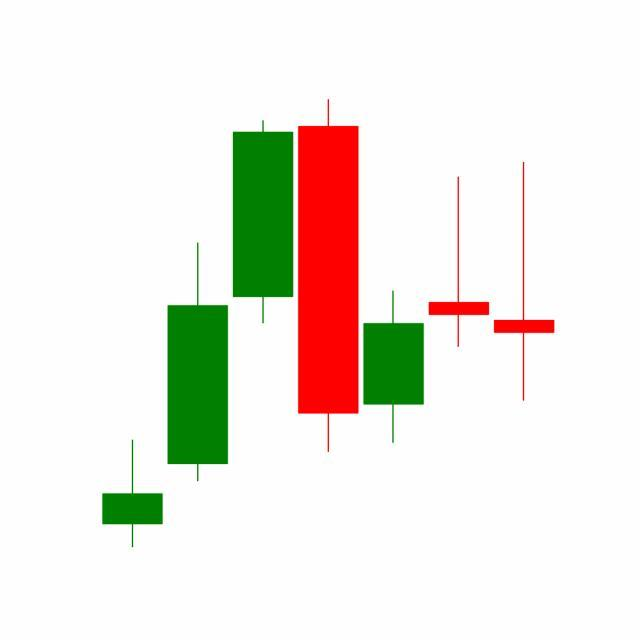Hikkake Pattern: (165, 100, 492, 488)
